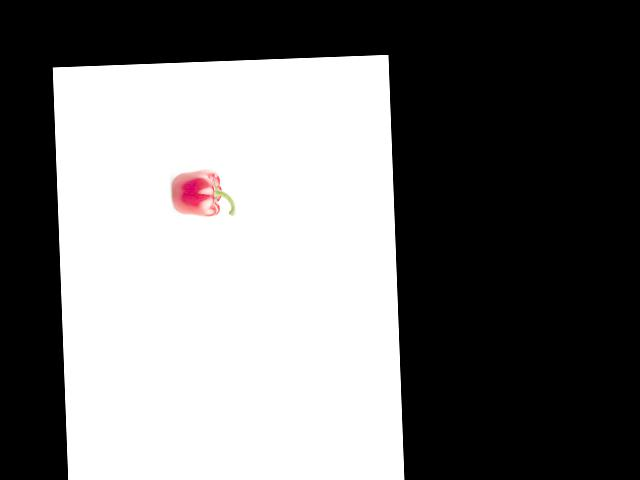bell_pepper: (170, 169, 236, 219)
